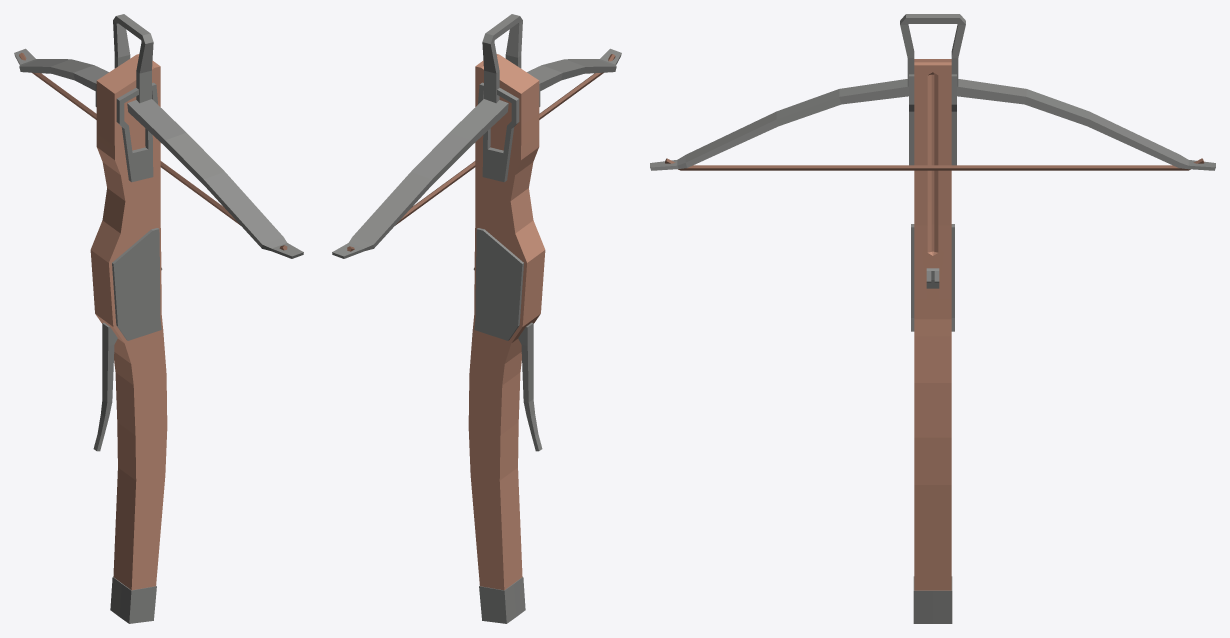
The model's file is ankers-low-poly-medieval-weapons--crossbow.glb.
3 views of the same model, side by side, from view 1: azimuth 30°, elevation 25°; view 2: azimuth 150°, elevation 25°; view 3: azimuth 270°, elevation 25° (orthographic).
Parts seen in each view (by area): view 1: Crossbow; view 2: Crossbow; view 3: Crossbow.
Boxes of the visible parts, x1,y1,x2,y2 form: Crossbow: (14,14,303,623); Crossbow: (332,14,621,623); Crossbow: (650,14,1215,623).
Size of the model in its own units: 0.1531 by 1.24 by 1.05.
